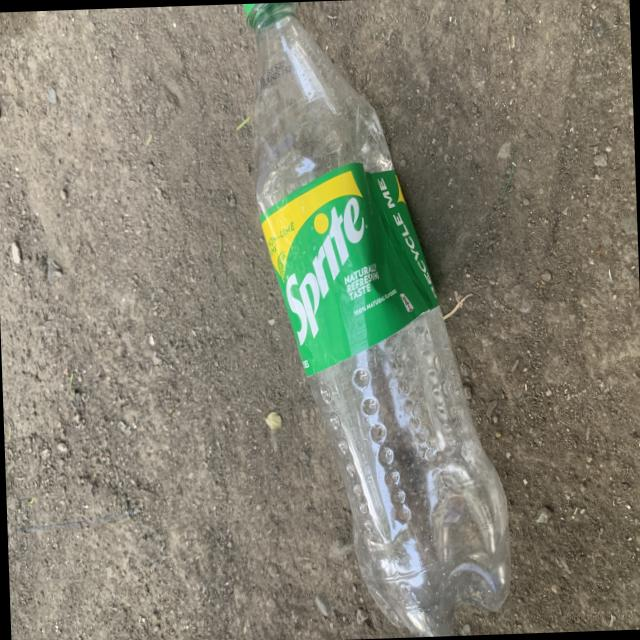Bottle: (242, 1, 509, 637)
